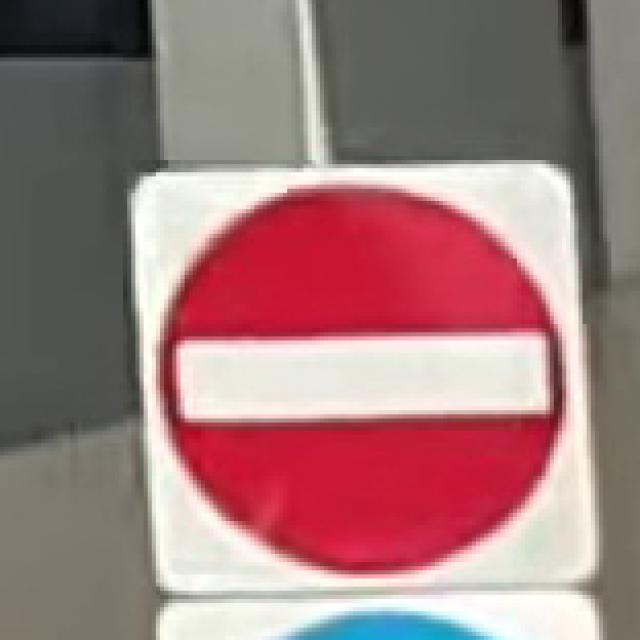noentry_sign: (123, 156, 599, 591)
